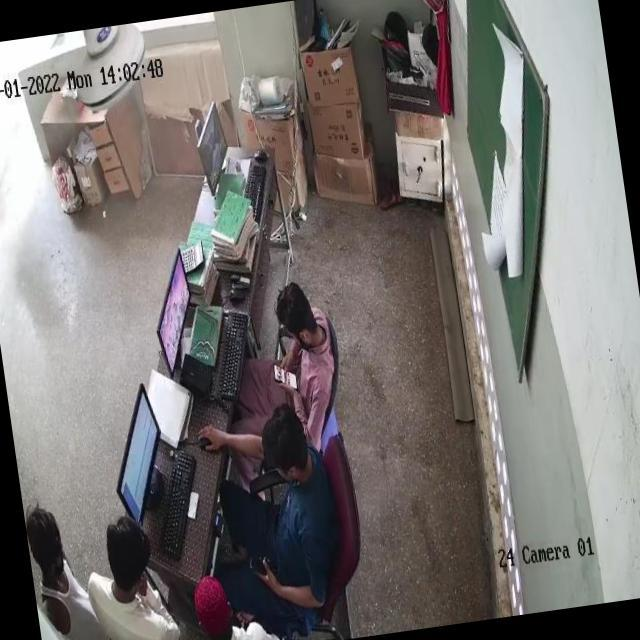person: (215, 408, 341, 613), (234, 284, 341, 428), (81, 511, 183, 640), (23, 499, 106, 640), (186, 573, 279, 640)
